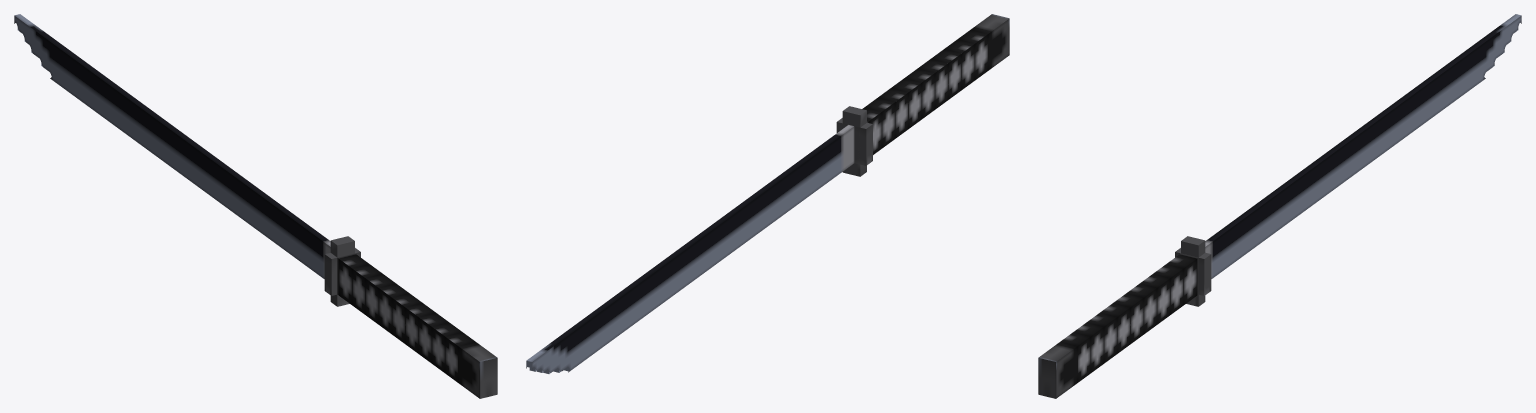
File: uchigatana.obj
3 renders of one model, left to right at view 1: azimuth 30°, elevation 25°; view 2: azimuth 150°, elevation 25°; view 3: azimuth 330°, elevation 25°, orthographic.
Parts seen in each view (by area): view 1: katana; view 2: katana; view 3: katana.
Boxes of the visible parts, left/top/right/bottom form: katana: left=14, top=14, right=497, bottom=398; katana: left=526, top=14, right=1009, bottom=373; katana: left=1038, top=14, right=1521, bottom=398.
Size of the model in its own units: 0.0977 by 0.1953 by 2.71.
